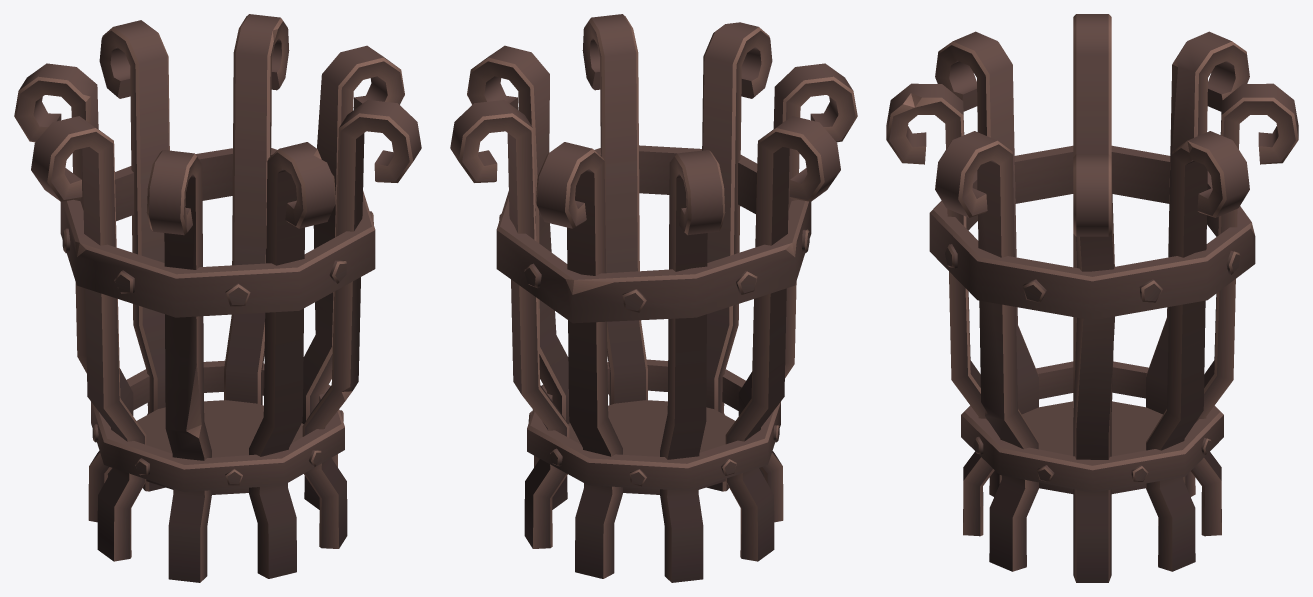
The model's file is FirePlace_1_1_G.glb.
The picture shows the model from 3 angles, left to right: view 1: azimuth 30°, elevation 25°; view 2: azimuth 150°, elevation 25°; view 3: azimuth 270°, elevation 25°; orthographic projection.
Parts seen in each view (by area): view 1: FirePlace_1_1_G; view 2: FirePlace_1_1_G; view 3: FirePlace_1_1_G.
Boxes of the visible parts, x1=… form: FirePlace_1_1_G: x1=14, y1=14, x2=421, y2=582; FirePlace_1_1_G: x1=450, y1=14, x2=857, y2=582; FirePlace_1_1_G: x1=886, y1=14, x2=1298, y2=582.
Size of the model in its own units: 0.7082 by 0.8289 by 0.7082.
Materials: 1 (1 with a texture image).
